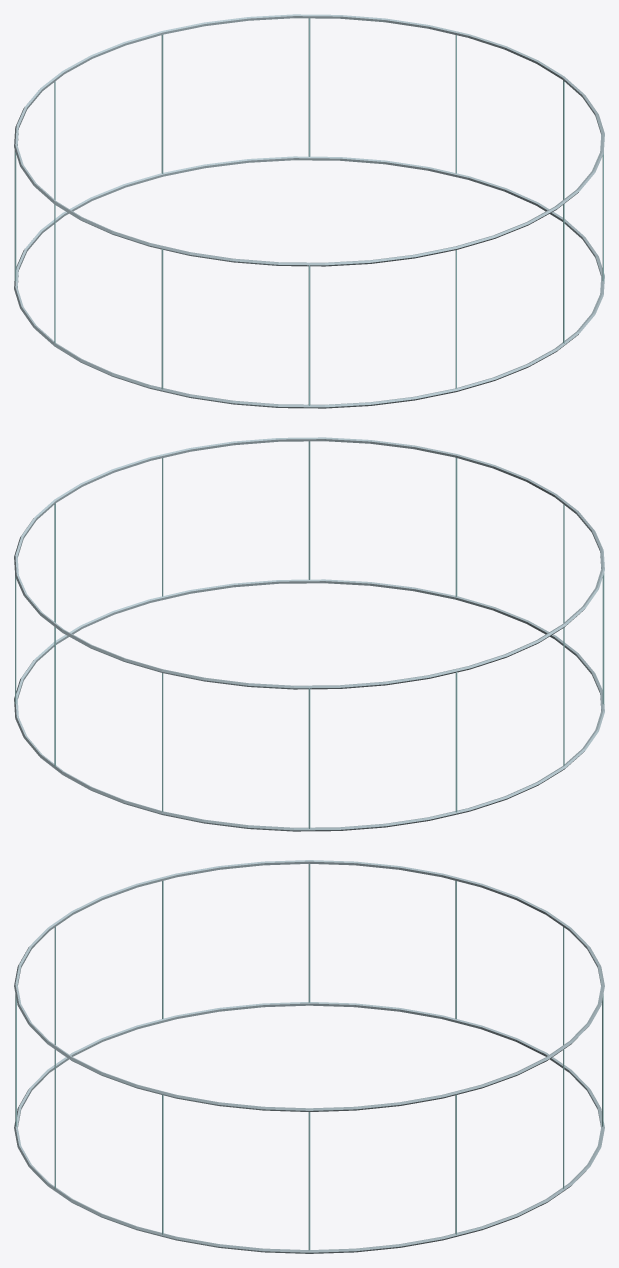
The model's file is banda_viento.glb.
3 views of the same model, one above another, from view 1: azimuth 30°, elevation 25°; view 2: azimuth 150°, elevation 25°; view 3: azimuth 270°, elevation 25° (orthographic).
Parts seen in each view (by area): view 1: banda_viento; view 2: banda_viento; view 3: banda_viento.
Boxes of the visible parts, bbox=[...] form: banda_viento: bbox=[14, 14, 604, 408]; banda_viento: bbox=[14, 437, 604, 831]; banda_viento: bbox=[14, 860, 604, 1253].
Bounding box in the file's own units: 12.08 × 3.28 × 12.08.
